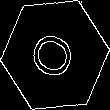O_SE: (26, 25, 84, 85)
